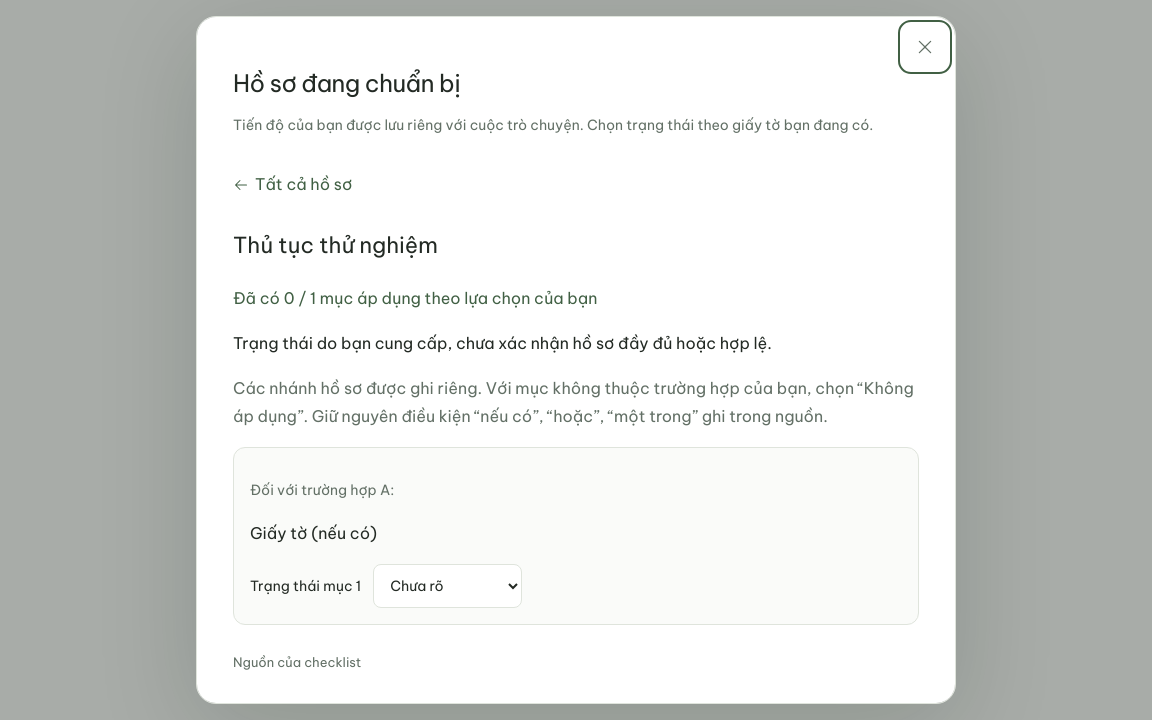
Test: refreshes after stale revision instead of overwriting another tab
Select "Còn thiếu" in the dropdown at (448, 586), box [373,564,522,608]
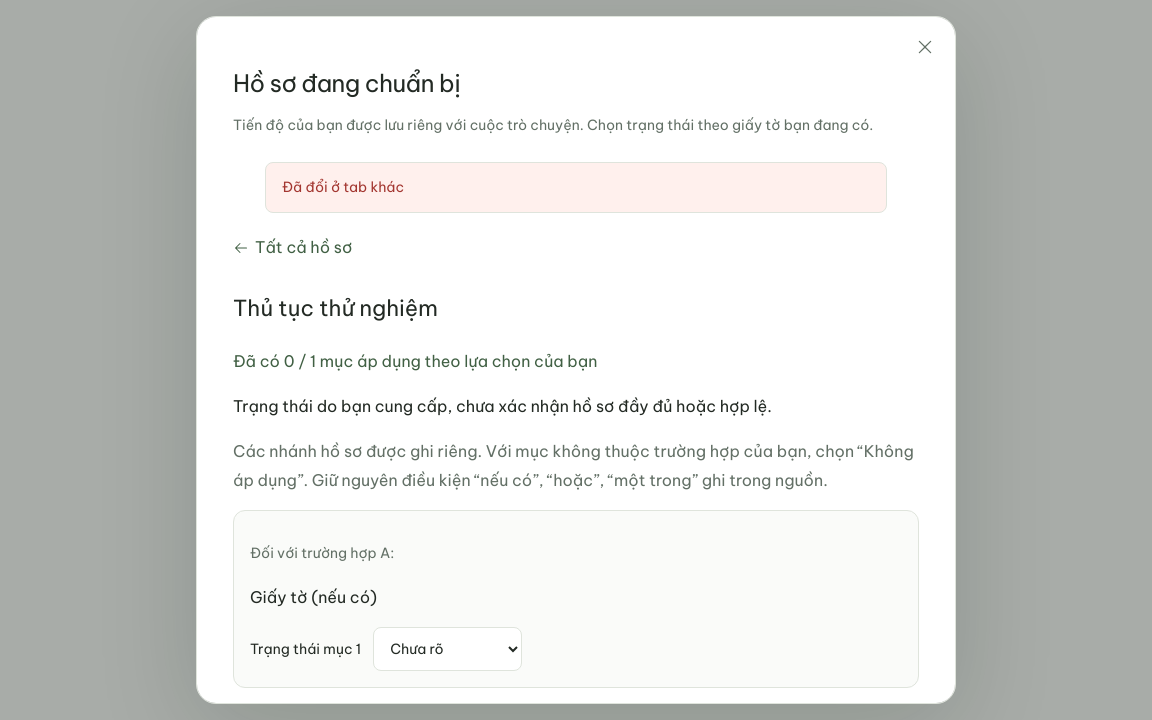
Expected: the message reads "Đã đổi ở tab khác", [282,178,404,196]
